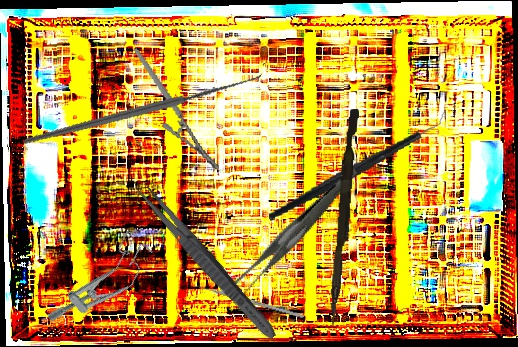Chopper: (256, 106, 459, 222)
Dressing Forceps: (130, 179, 282, 344), (207, 168, 384, 301)
Hook Surgical: (23, 7, 265, 201)
Needle Holder: (133, 34, 221, 184)
Pusher: (328, 108, 360, 327), (187, 281, 305, 319)
Speculum: (39, 224, 164, 343)
